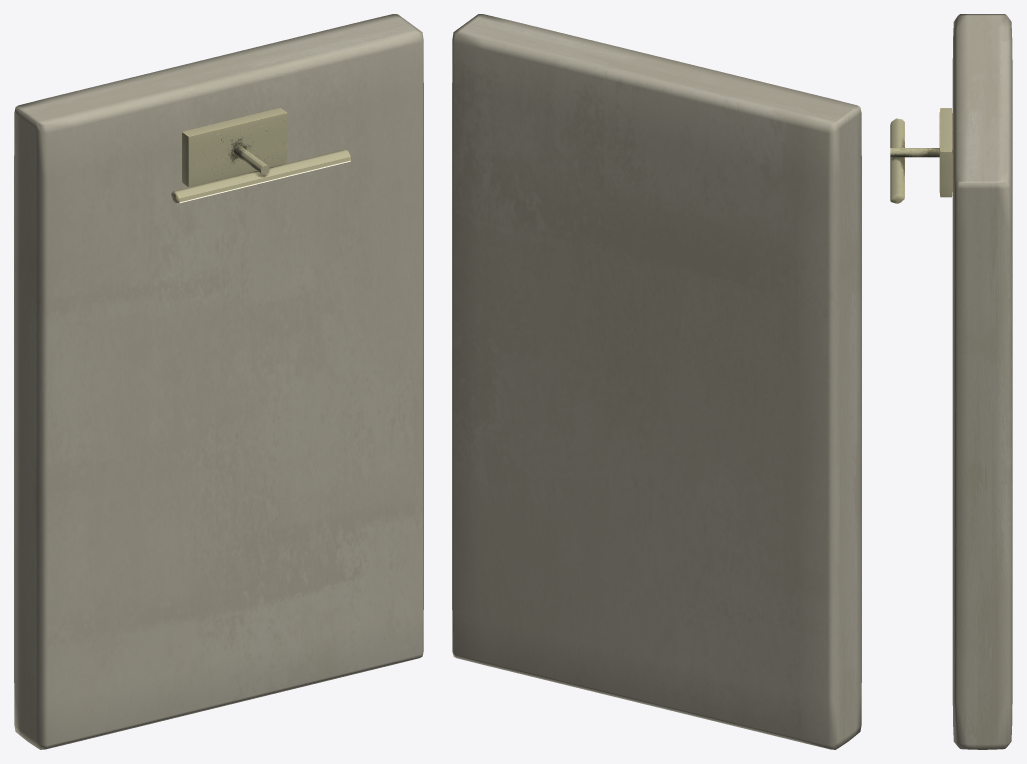
Rendered from painting_display.fbx.
The picture shows the model from 3 angles, left to right: view 1: azimuth 30°, elevation 25°; view 2: azimuth 150°, elevation 25°; view 3: azimuth 270°, elevation 25°; orthographic projection. The views are drawn at different scales.
Visible parts, largest first — view 1: dividers/[painting walls.005, spotlight.008; view 2: dividers/[painting walls.005; view 3: dividers/[painting walls.005, spotlight.008.
Boxes of the visible parts, box(x1,y1,x2,y2) form: dividers/[painting walls.005: box(14, 14, 423, 749); spotlight.008: box(171, 108, 351, 203); dividers/[painting walls.005: box(452, 14, 861, 749); dividers/[painting walls.005: box(952, 14, 1012, 749); spotlight.008: box(890, 108, 952, 203).
Size of the model in its own units: 128 by 200 by 39.09.
2 materials, 2 textured.
